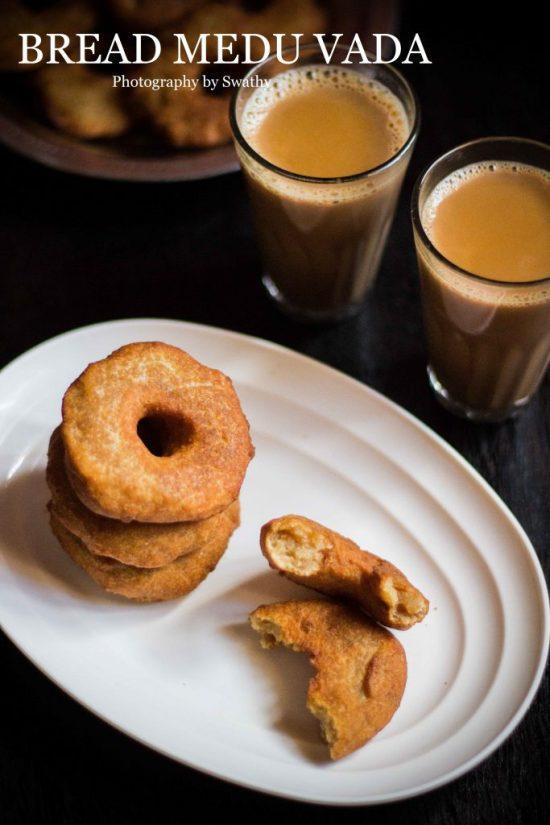mvada: (88, 391, 240, 590)
